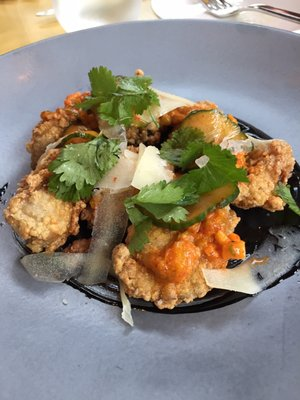burger: (198, 0, 300, 25)
curry: (45, 130, 126, 203)
pizza: (52, 0, 147, 35)
soup: (4, 65, 282, 290)
